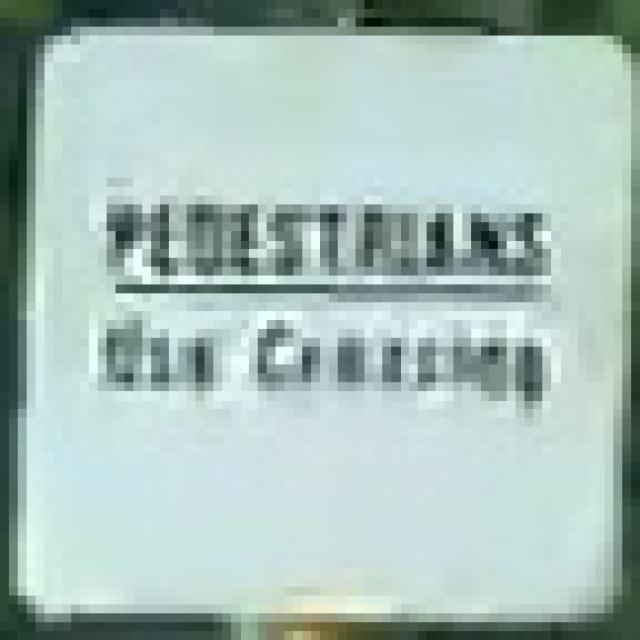pedestriancrossing_sign: (9, 18, 631, 622)
